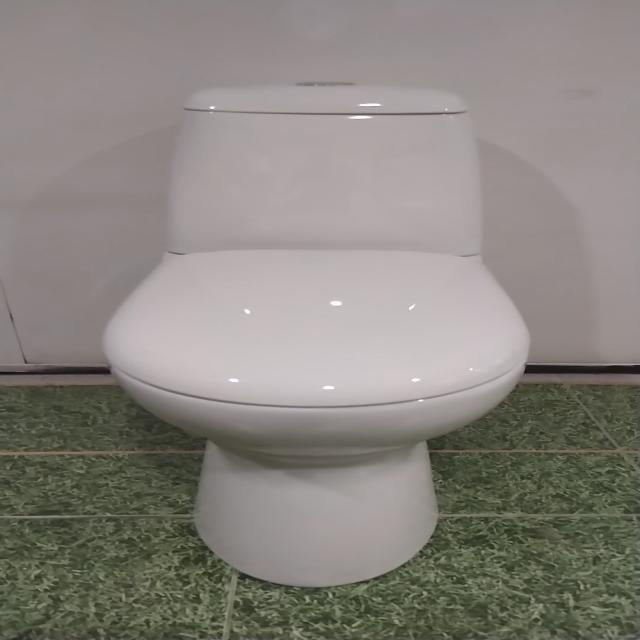toilet: (100, 82, 532, 587)
